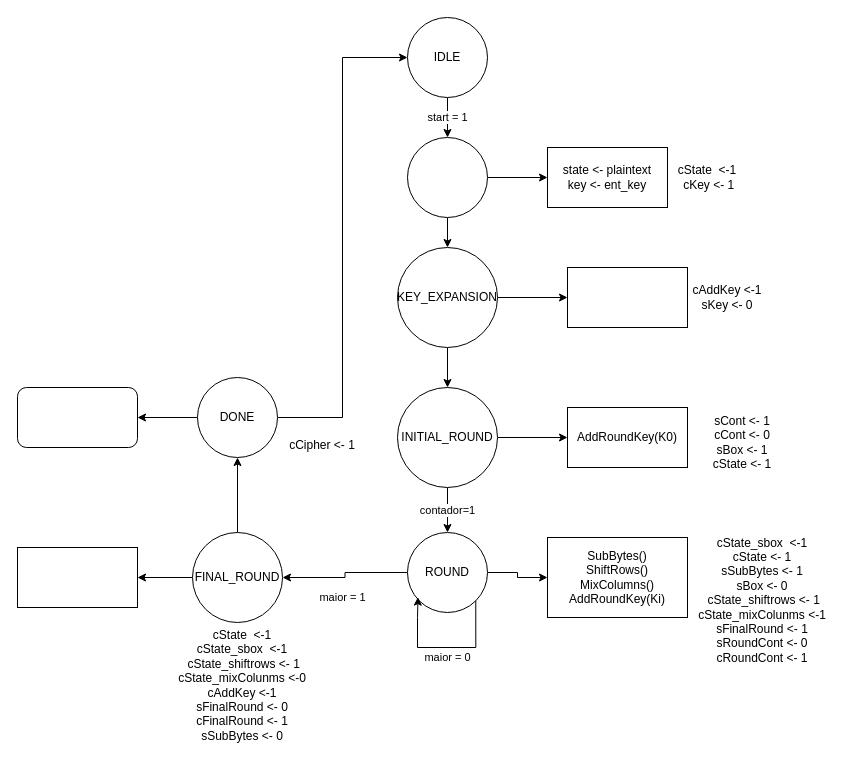
Some shapes in this 845 by 760 pixel diagram are drawn without their labels. The shapes that lost their labels are listed below. From the top down, each one's box as (x1, y1, x2, y2) in pixels, then its label:
(406, 136, 488, 218): LOAD
(566, 266, 688, 328): gerar as chaves para cada round, [K0, K10]
(16, 386, 138, 448): ciphertext <= state done <= 1
(16, 546, 138, 608): SubBytes() ShiftRows() AddRoundKey(K10)
